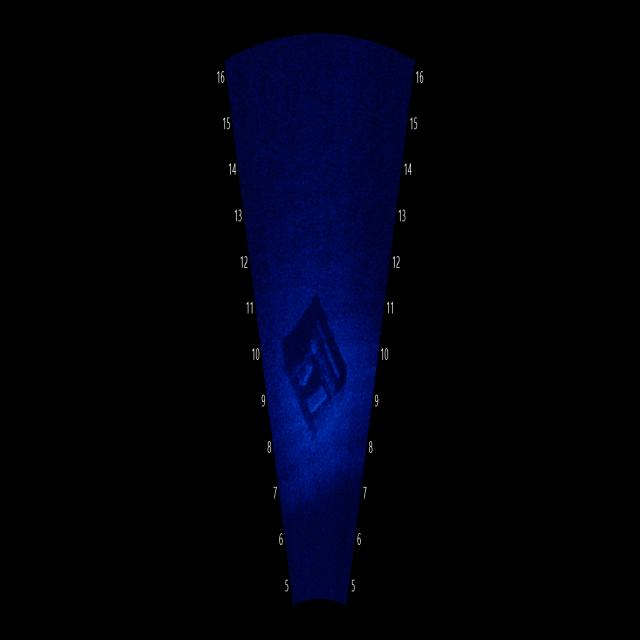square: (277, 281, 356, 452)
